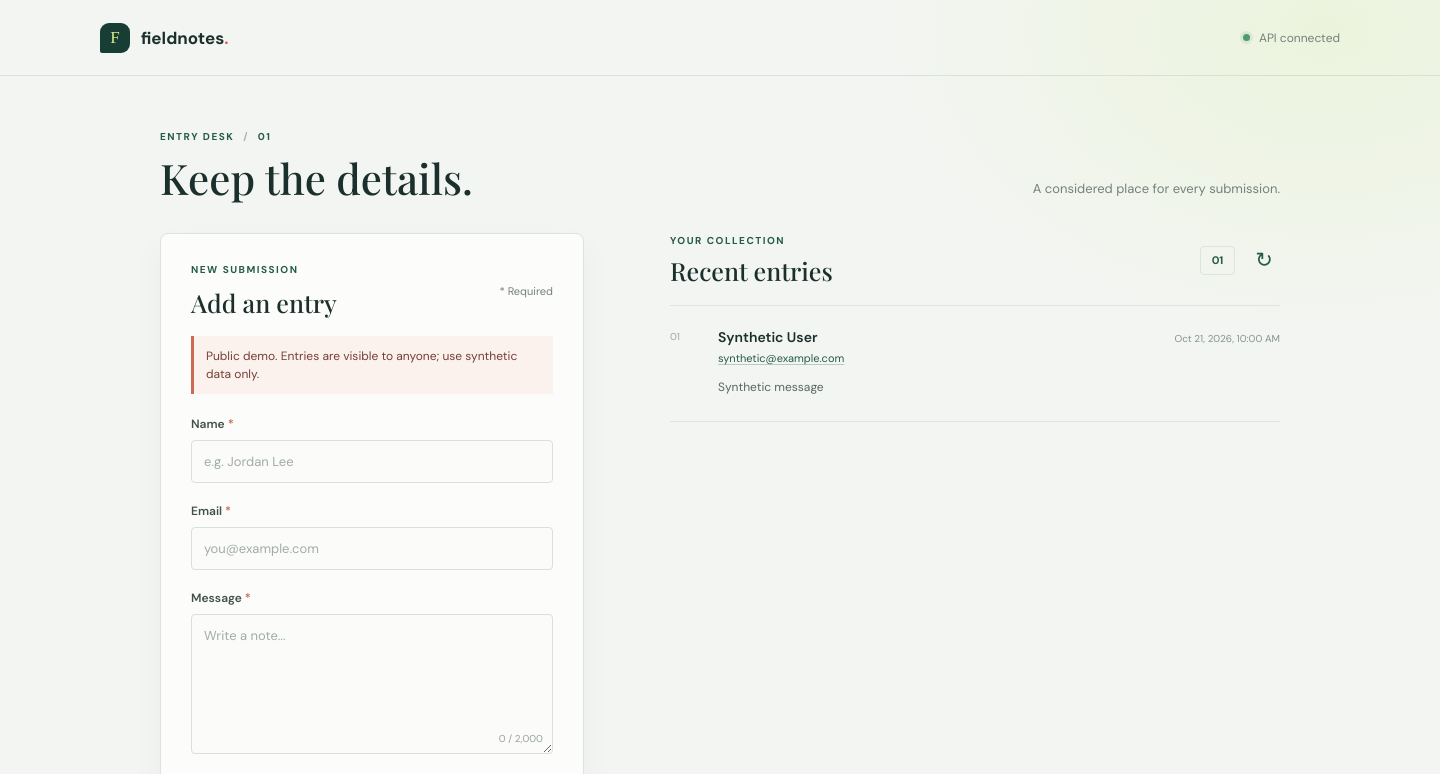
Scenario: public entries client › keeps confirmed entries visible when a refresh fails
Expected: the heading "Synthetic User" is shown, [718,328,818,346]
What coordinates should you click on to do the following:
click the button with test id "entries-refresh-button"
I would click on:
 (1264, 260)
Its box is [1248,244,1280,276].
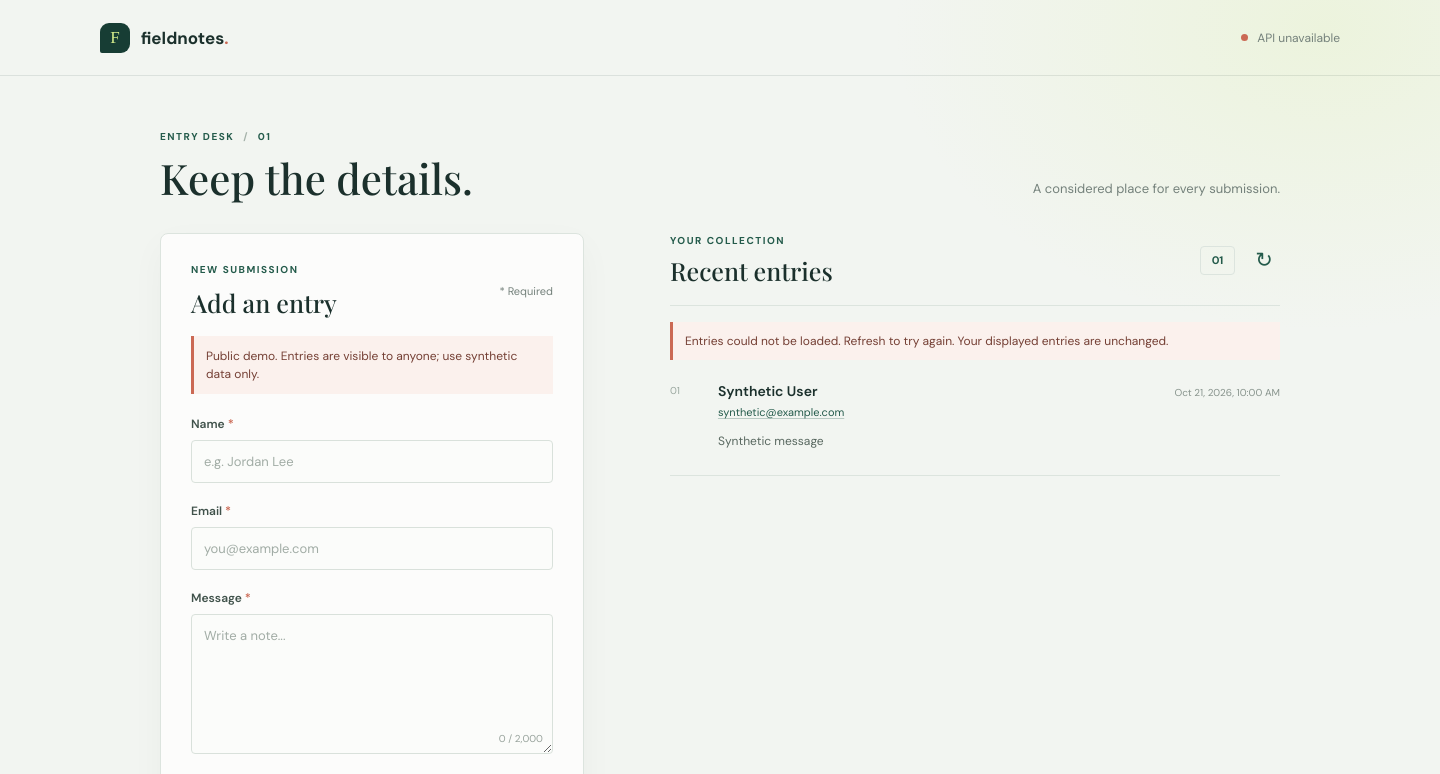
Expected: the heading "Synthetic User" is shown, [718,382,818,400]
Now the message with test id "collection-error" shows "Your displayed entries are unchanged.", box [954,333,1168,349]
